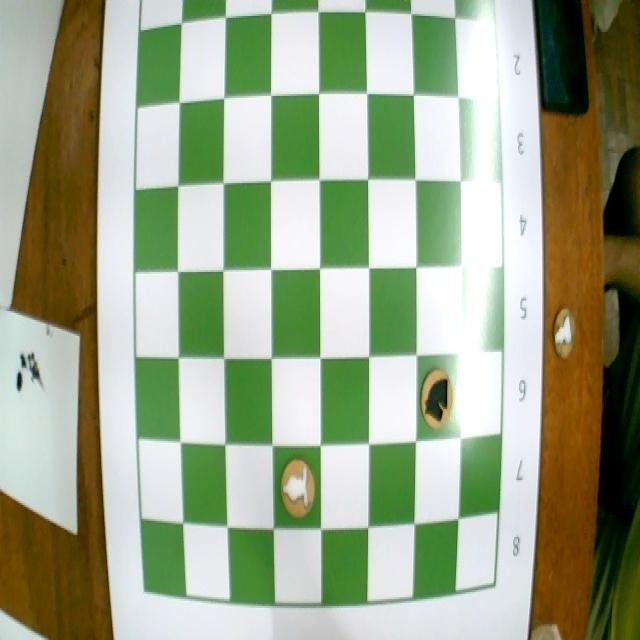chess-pieces: (416, 356, 461, 441), (274, 448, 318, 526)
